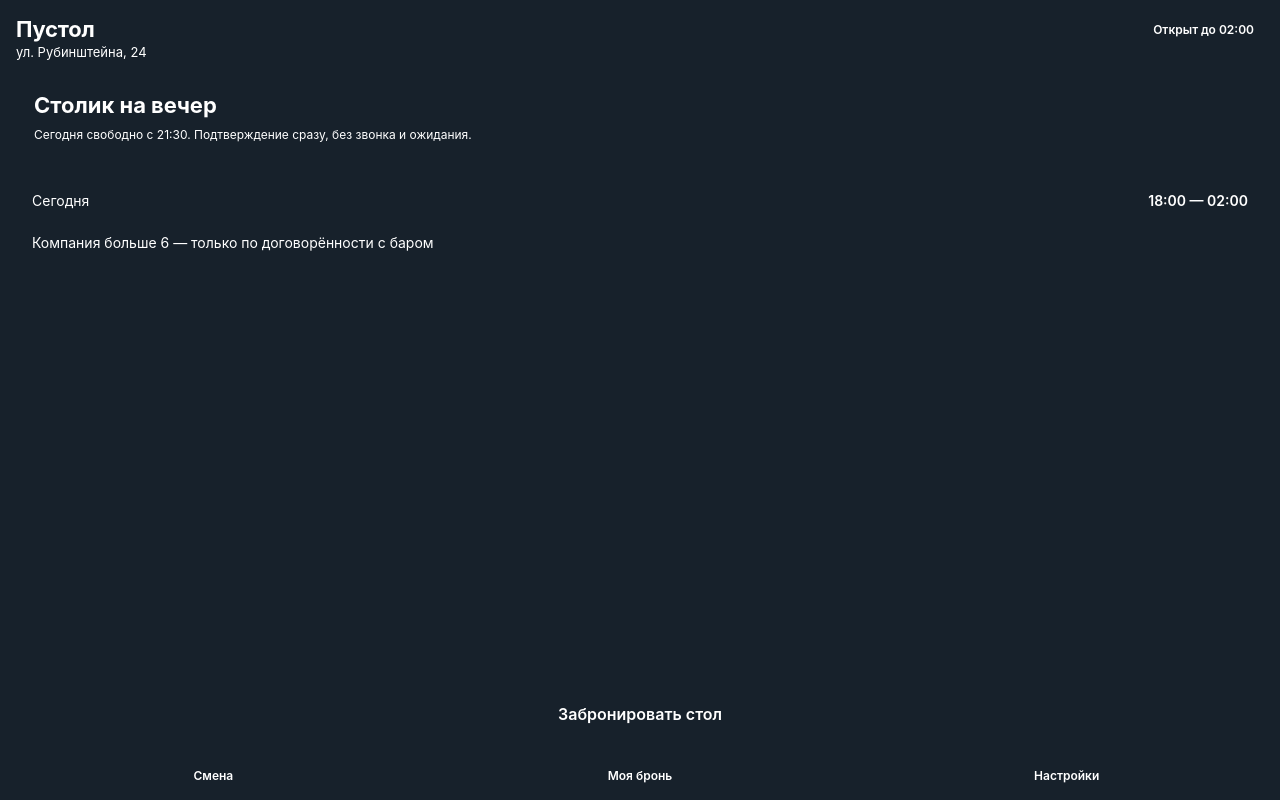
Test: a shift left open on the bar › offers no undo for closing a table the server says this tap did not close
Click the button "Смена". click: (213, 774)
box: 0,748 -> 427,799
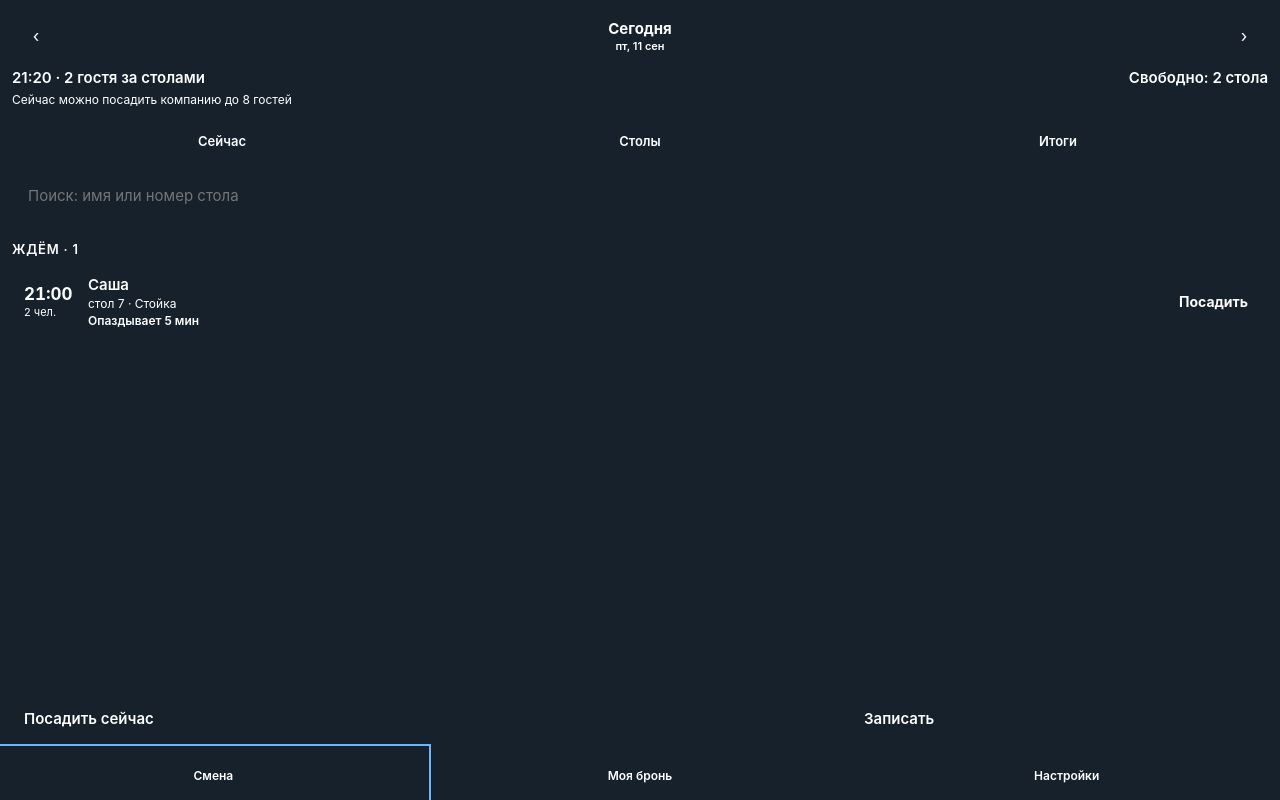
Click the tab "Столы". click: (640, 141)
box: 432,121 -> 848,161
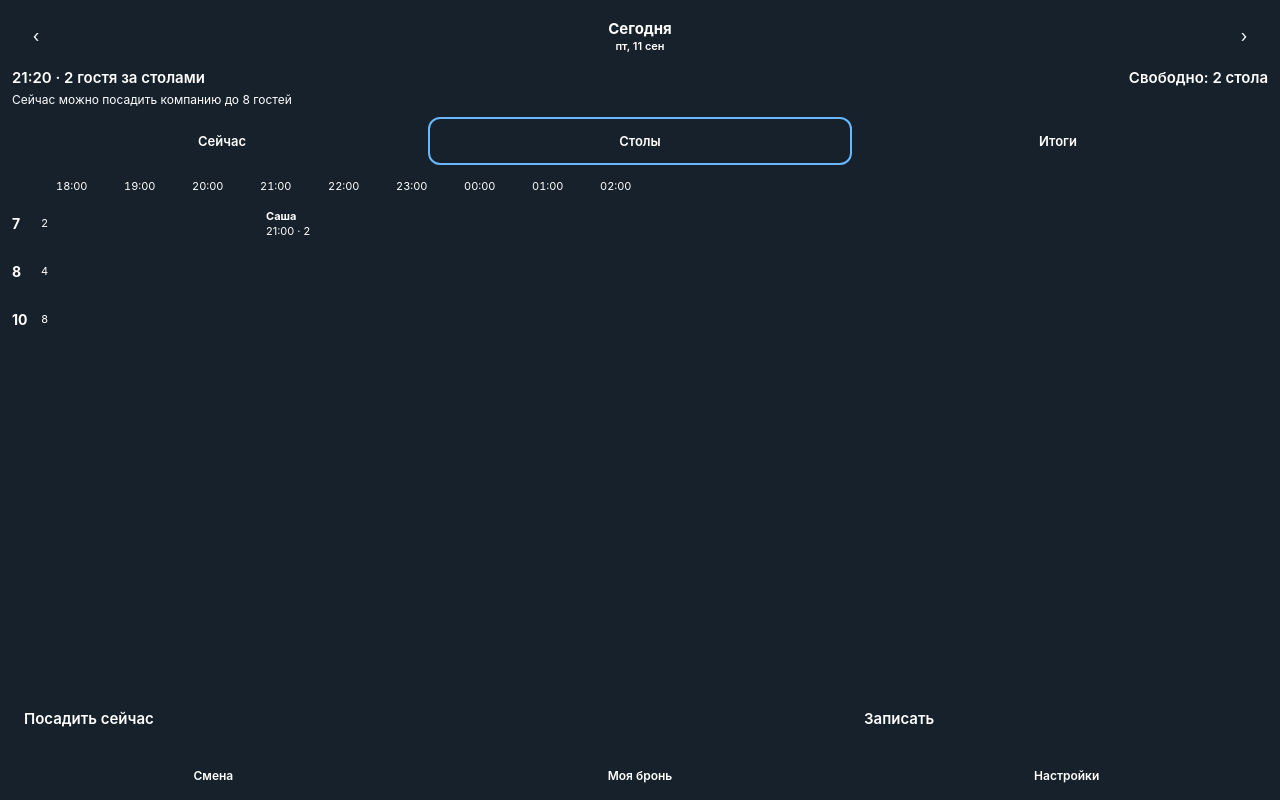
Click the button named "Стол 8". click: (28, 271)
box: 0,247 -> 56,295
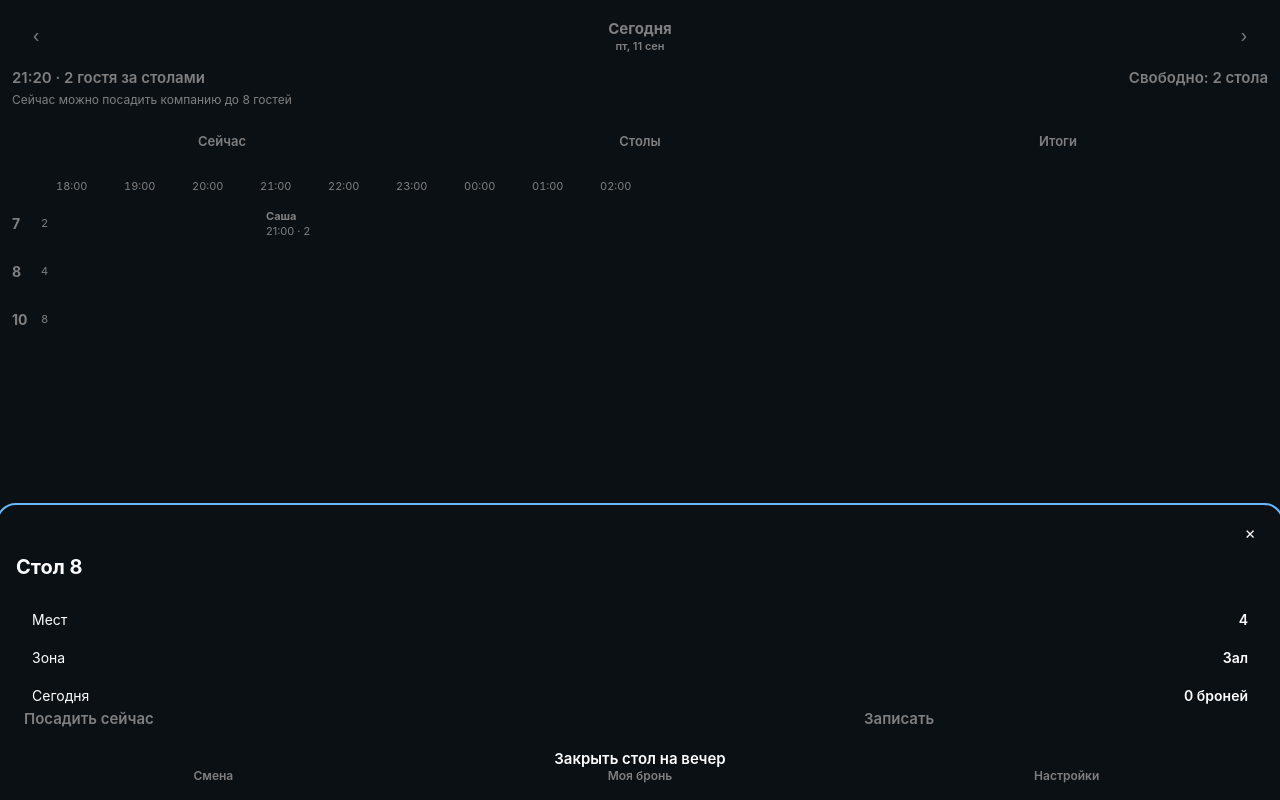
Click the button "Закрыть стол на вечер". click: (640, 758)
box: 16,736 -> 1264,780
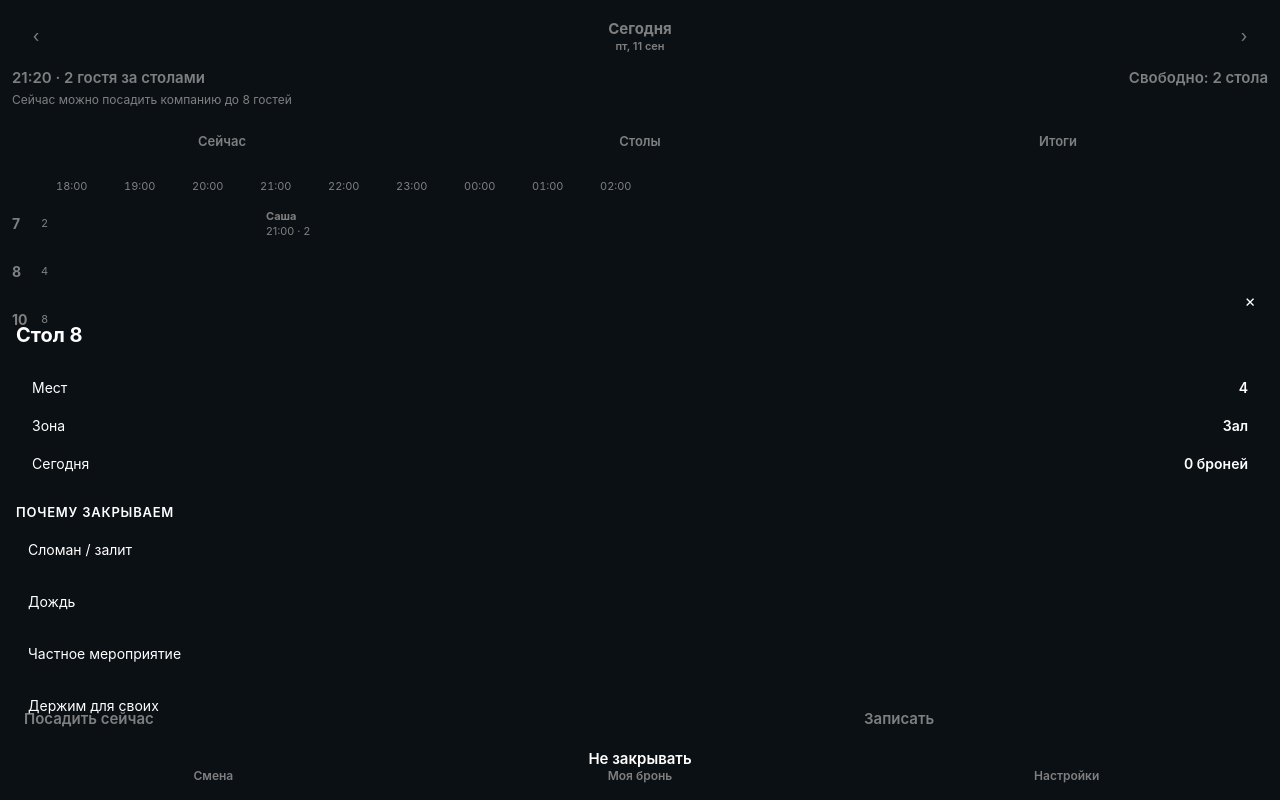
Click the button "Дождь". click: (52, 602)
box: 16,580 -> 1264,624
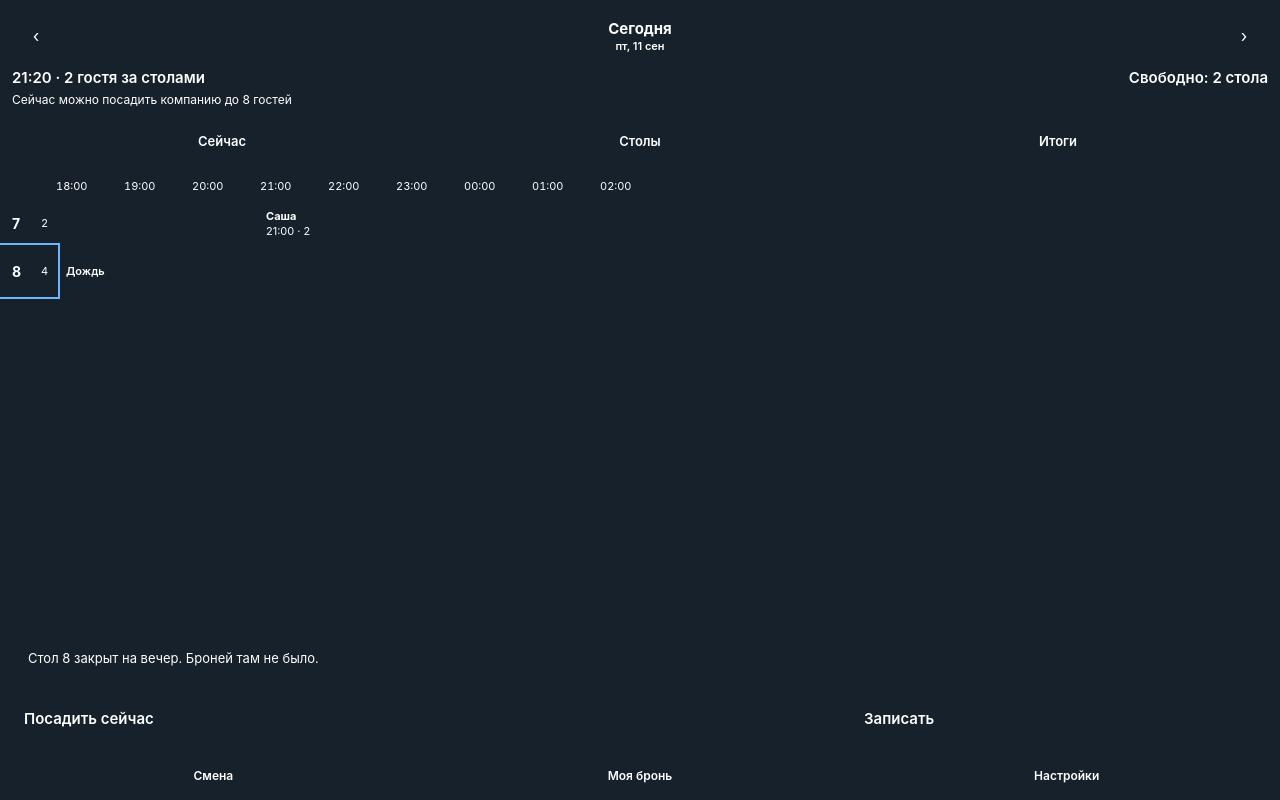
expect the text "Стол 8 закрыт на вечер. Броней там не было." is shown: met, box 28,650 -> 319,666
